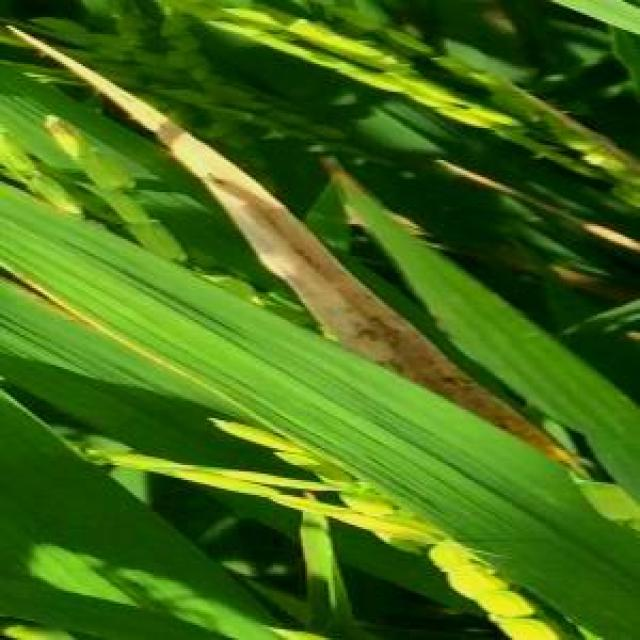Bacterial_Leaf_Blight: (2, 245, 190, 378)
